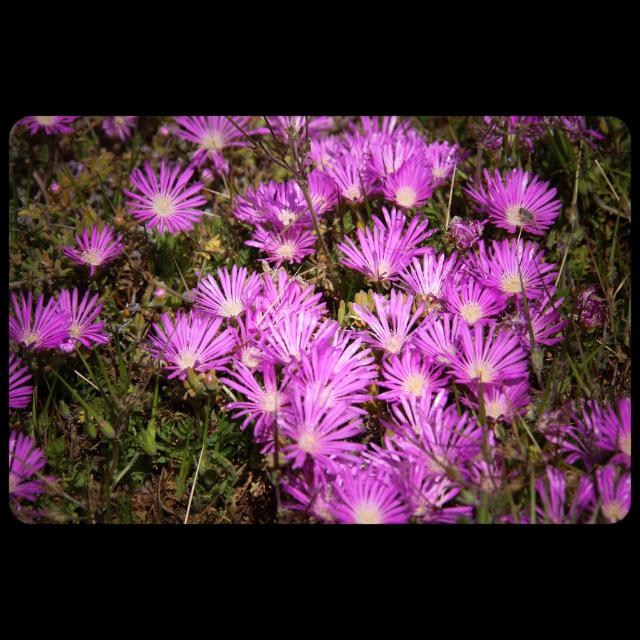Flower: (10, 114, 630, 526), (476, 168, 560, 244)
